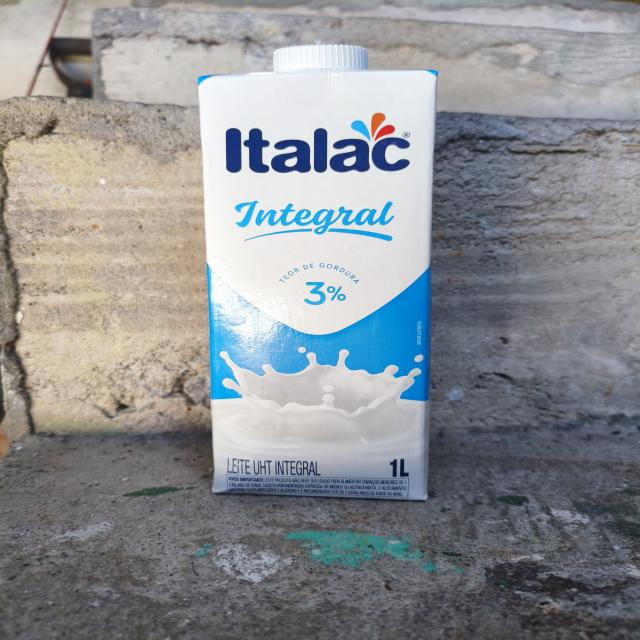Caixa de Leite: (194, 42, 438, 504)
